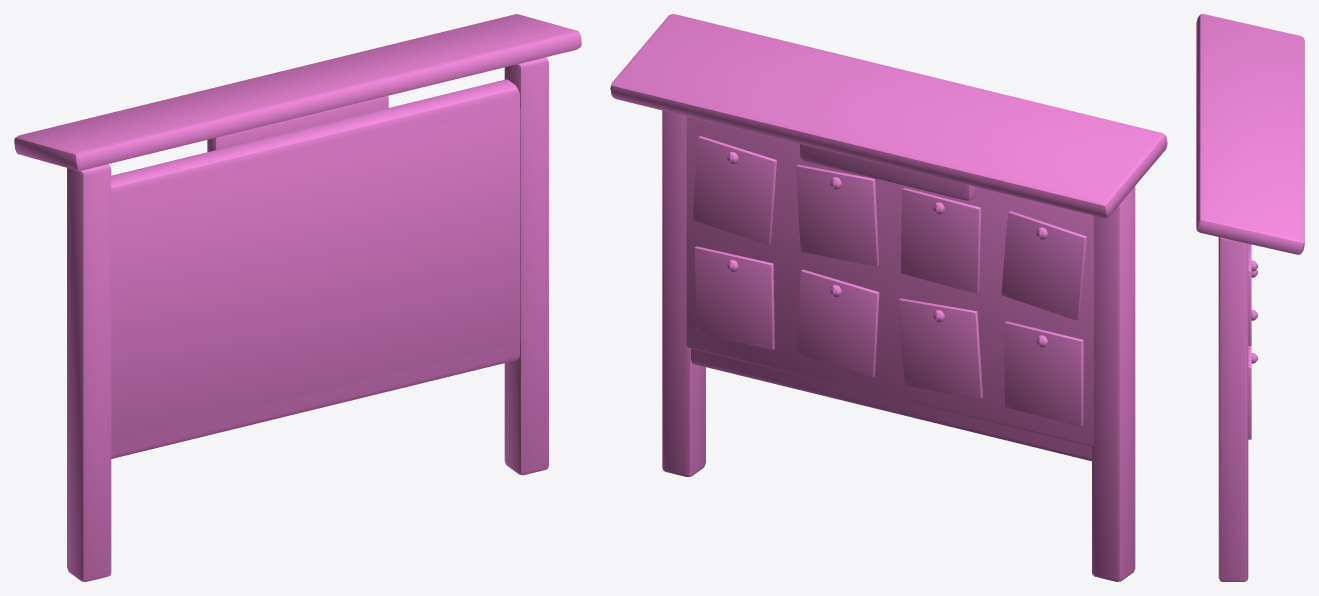
The model's file is Hub_JobBoard.fbx.
The picture shows the model from 3 angles, left to right: view 1: azimuth 30°, elevation 25°; view 2: azimuth 150°, elevation 25°; view 3: azimuth 270°, elevation 25°; orthographic projection. The views are drawn at different scales.
Visible parts, largest first — view 1: JobBoard; view 2: JobBoard; view 3: JobBoard.
Boxes of the visible parts, x1,y1,x2,y2 form: JobBoard: [14, 14, 581, 581]; JobBoard: [610, 14, 1167, 581]; JobBoard: [1196, 14, 1304, 581].
Bounding box in the file's own units: 11.6 × 9.68 × 2.56.
1 material, 1 textured.
